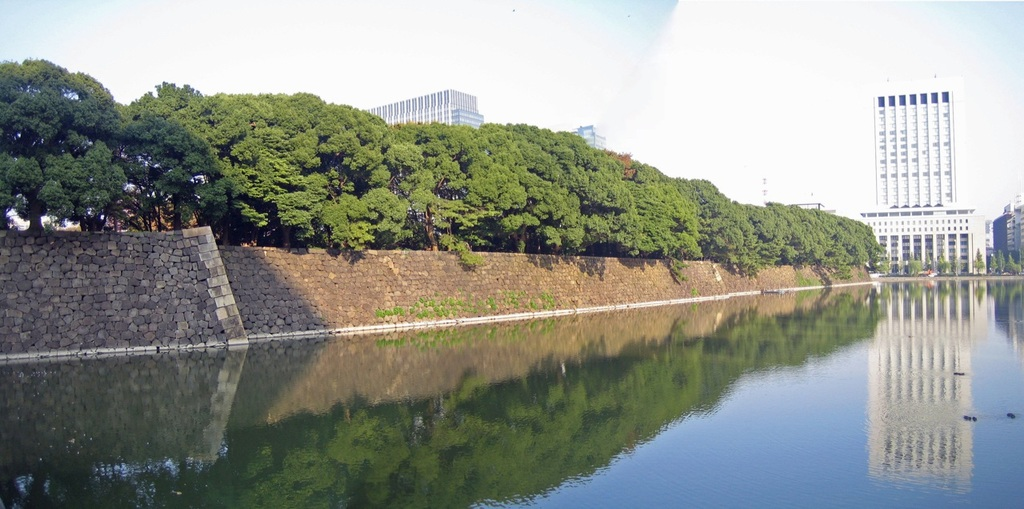Tree: (0, 58, 885, 280), (883, 244, 1024, 277)
